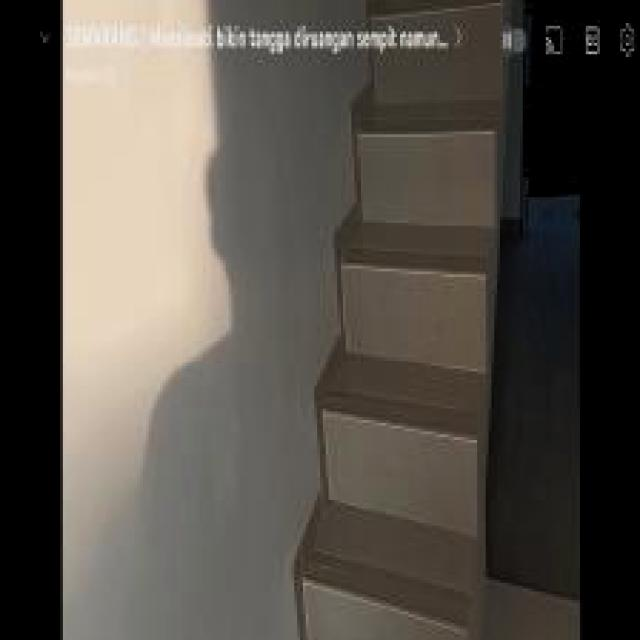upstair: (344, 61, 484, 640)
